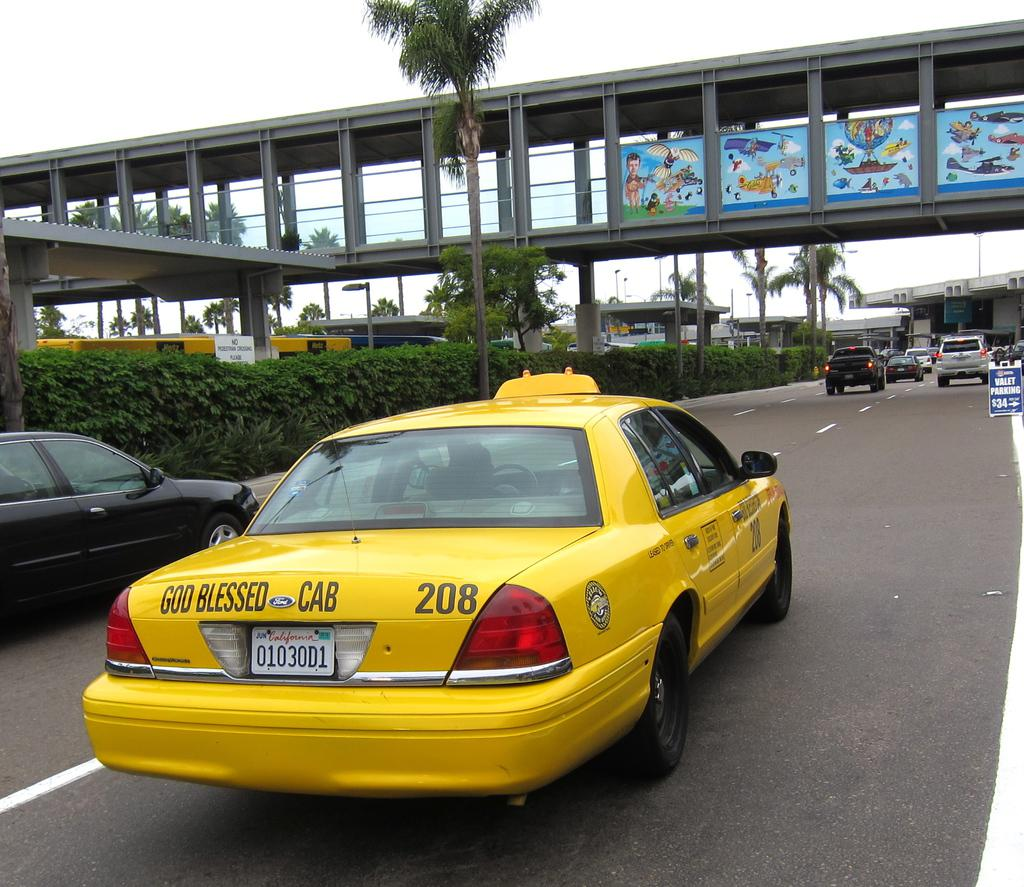taxi: (83, 373, 794, 809)
